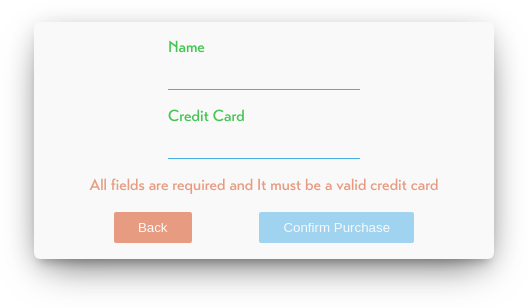
it: Payment Form › Should remove warning and allow to click next when all data in place
expect the text "All fields are required and It must be a valid credit card" is shown: met, box [90,176,438,196]
expect the button "Confirm Purchase" is disabled: met, box [259,212,414,243]
Type "Batman" into the field named "name". click: (264, 74)
box: [168,58,360,91]
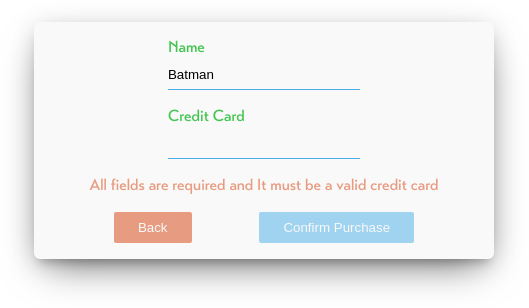
Type "378282246310005" into the field named "card". click: (264, 144)
box: [168,127,360,160]
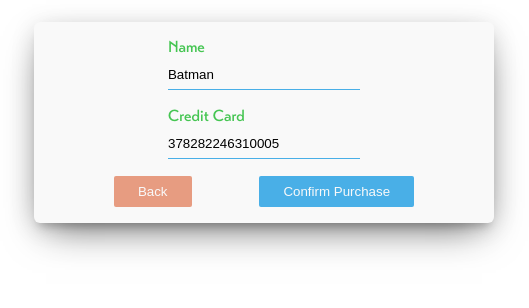
expect the text "All fields are required and It must be a valid credit card" is gone: met
expect the button "Confirm Purchase" is enabled: met, box [259,176,414,207]
